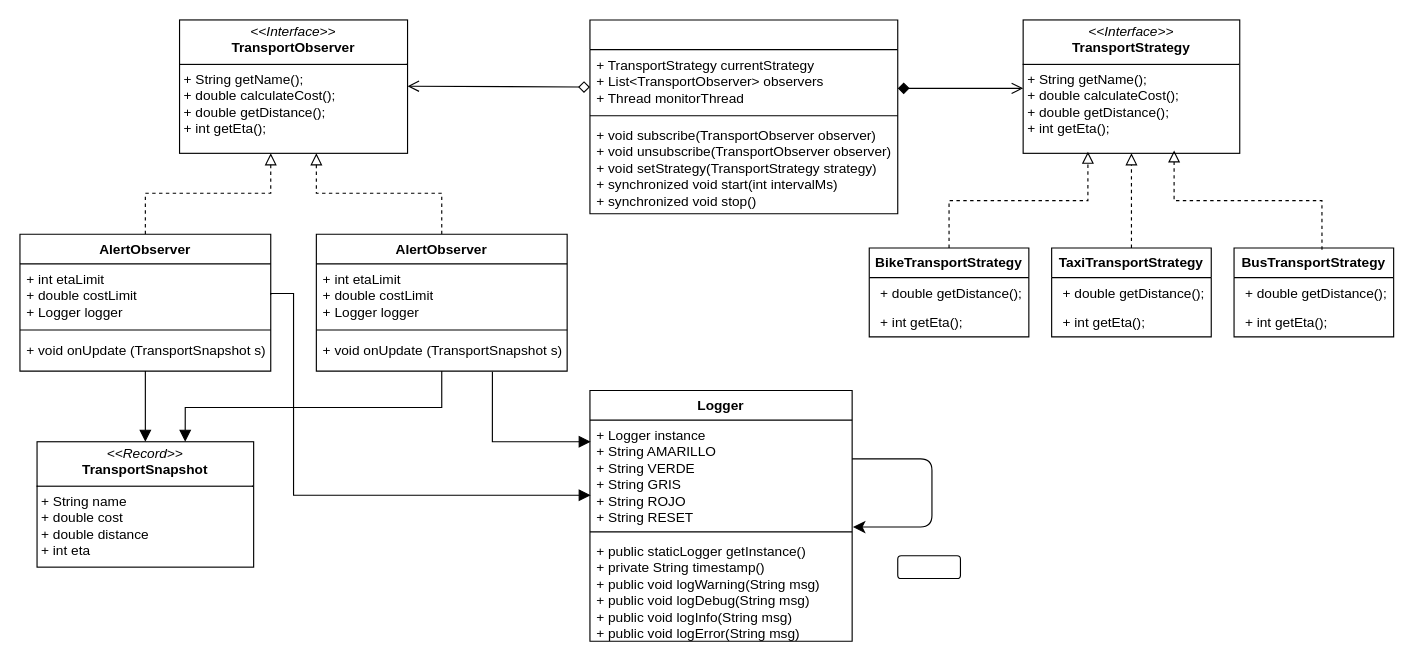
Some shapes in this 1414 by 665 pixel diagram are drawn without their labels. The shapes that lost their labels are listed below. From the top down, each one's box as (x1, y1, x2, y2) in pixels, then its label:
(589, 19, 898, 214): TransportMonitor
(897, 555, 960, 579): instancia
